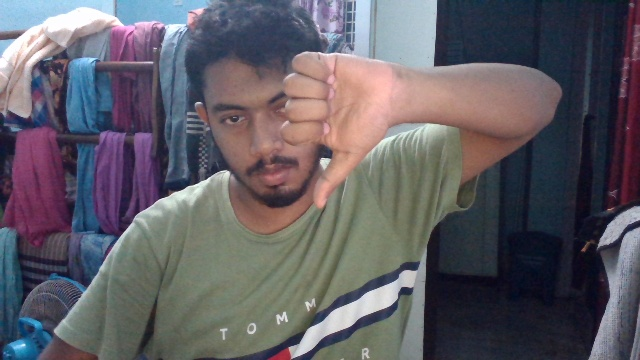no: (279, 49, 413, 215)
